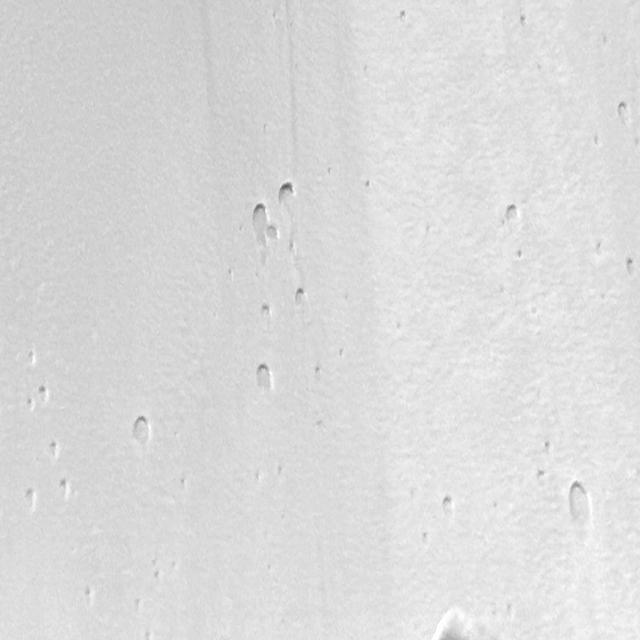pin holes: (561, 478, 597, 534), (245, 202, 272, 245), (250, 361, 278, 398), (440, 613, 474, 639), (130, 414, 155, 448), (501, 202, 523, 229), (274, 180, 296, 206), (616, 99, 635, 127), (22, 485, 40, 511), (439, 492, 458, 516), (56, 476, 73, 502), (45, 438, 63, 462), (34, 384, 52, 408), (623, 255, 640, 279), (293, 286, 310, 310), (176, 475, 193, 499), (592, 238, 609, 260), (265, 224, 282, 244), (273, 460, 288, 482), (536, 467, 552, 487), (24, 347, 40, 367), (169, 557, 183, 579), (487, 604, 502, 623), (83, 586, 97, 606), (518, 12, 532, 31), (398, 8, 412, 27), (505, 601, 518, 621), (260, 302, 274, 320), (362, 178, 376, 196), (543, 438, 556, 457), (591, 132, 605, 149), (24, 396, 37, 414), (314, 416, 328, 432), (289, 238, 300, 258), (418, 532, 431, 548), (254, 470, 266, 487), (151, 556, 162, 574), (514, 246, 527, 261), (312, 364, 324, 380), (153, 569, 165, 585), (226, 266, 238, 282), (337, 344, 348, 360), (132, 597, 143, 613), (326, 165, 336, 179), (169, 559, 179, 573), (631, 135, 639, 152), (142, 628, 154, 639)
